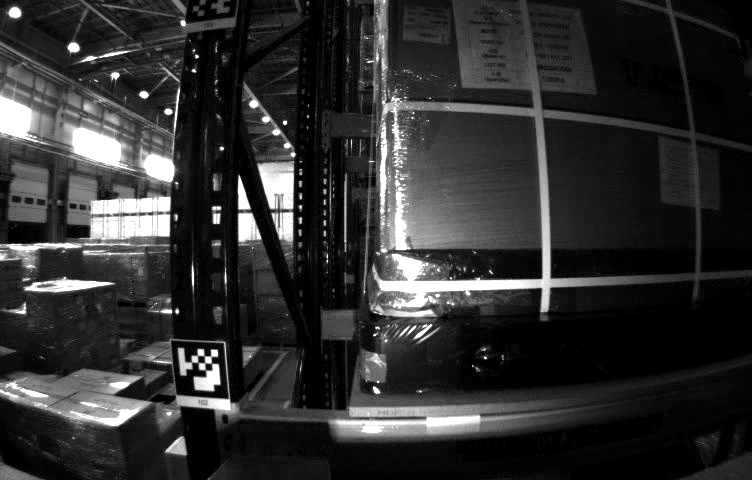True Barcode: (403, 2, 453, 48)
